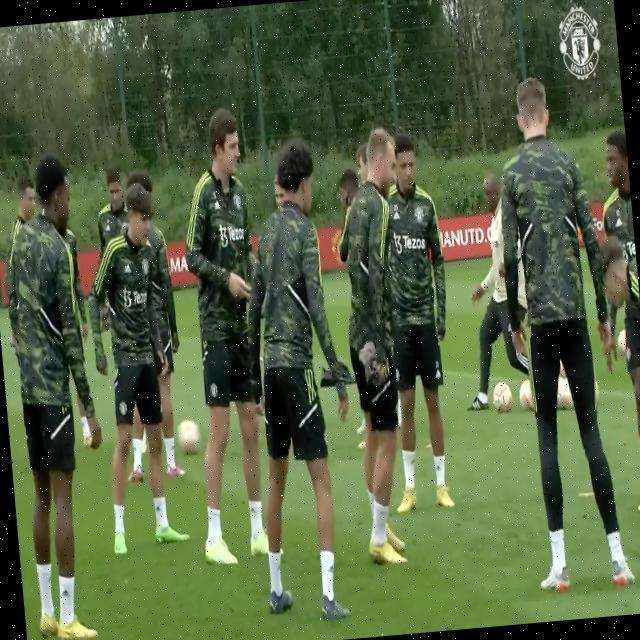Adidas: (326, 560, 334, 574), (61, 585, 69, 598), (214, 197, 221, 211), (393, 209, 401, 221), (124, 261, 131, 274)
